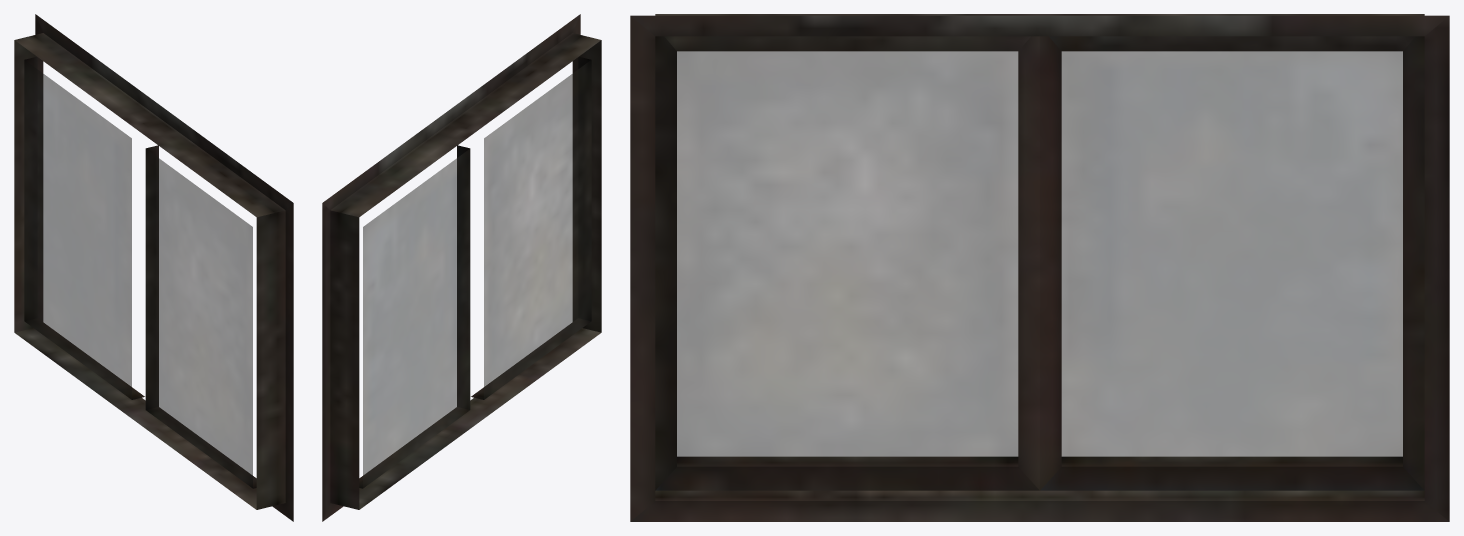
Rendered from DoubleWindow.FBX.
3 renders of one model, left to right at view 1: azimuth 30°, elevation 25°; view 2: azimuth 150°, elevation 25°; view 3: azimuth 270°, elevation 25°, orthographic. The views are drawn at different scales.
Visible parts, largest first — view 1: DoubleWindow; view 2: DoubleWindow; view 3: DoubleWindow.
Boxes of the visible parts, box(x1,y1,x2,y2) form: DoubleWindow: box(14, 14, 293, 521); DoubleWindow: box(322, 14, 601, 521); DoubleWindow: box(630, 14, 1449, 521).
Size of the model in its own units: 13.82 by 145 by 213.
